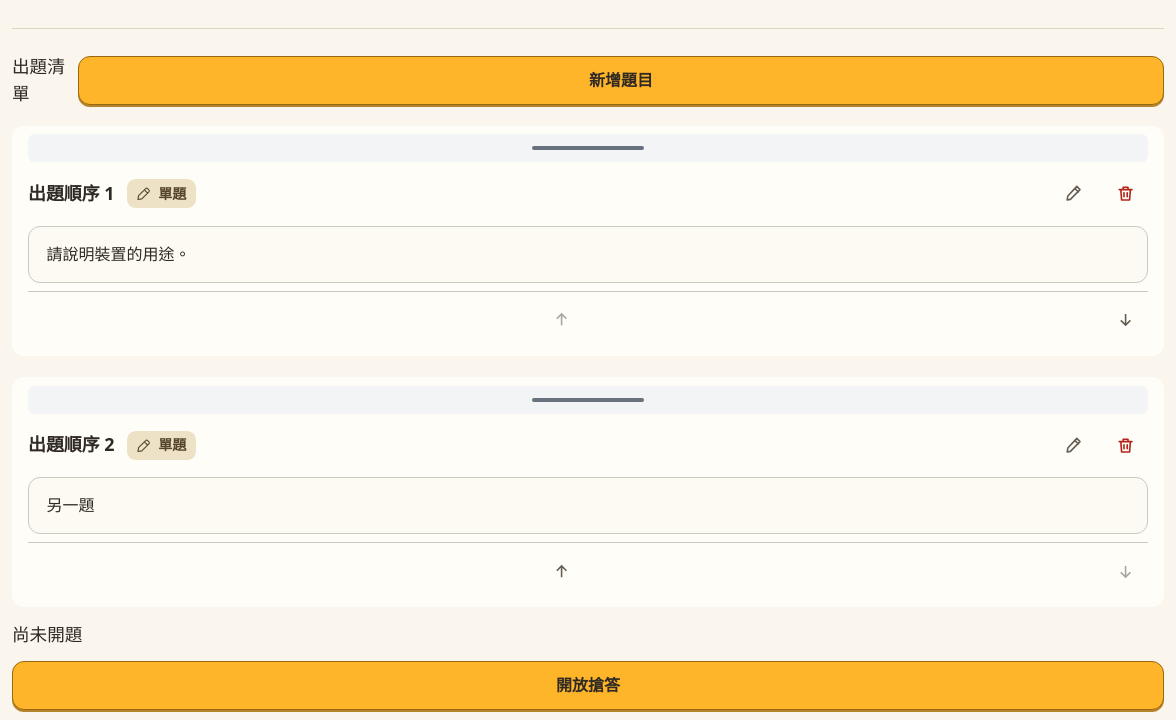
it: 刪除確認不會用新版的版本刪除同識別的新題
Later steps or results of the test are not shown.
Click the button named "刪除題目" in the row of "出題順序 1".
click(1126, 194)  # box 1104,172 -> 1148,216
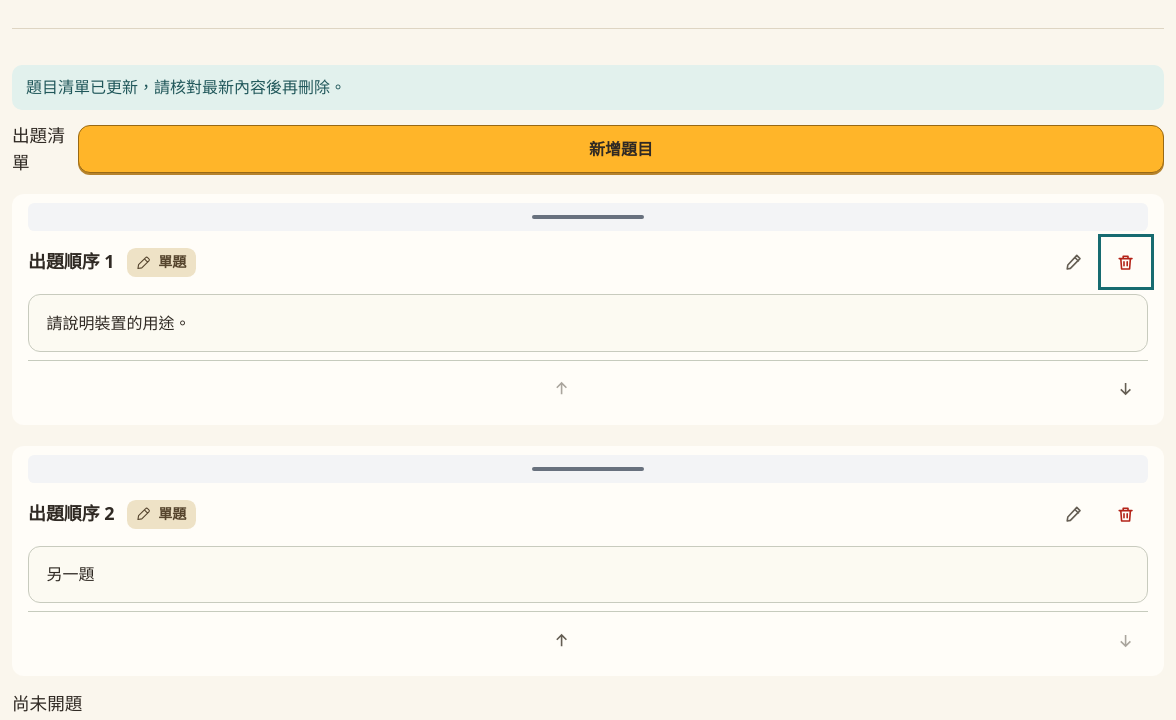
Now the text "題目清單已更新" is shown, box 26,76 -> 346,98
